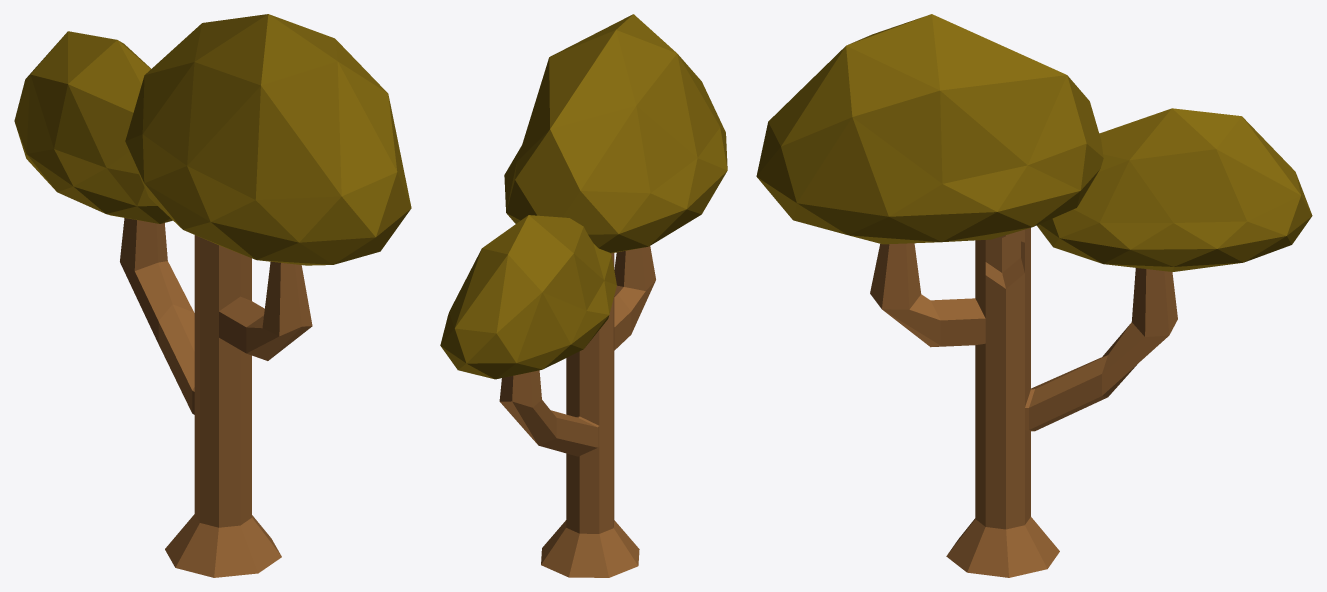
File: TreeWithHole3.fbx
3 views of the same model, side by side, from view 1: azimuth 30°, elevation 25°; view 2: azimuth 150°, elevation 25°; view 3: azimuth 270°, elevation 25° (orthographic). The views are drawn at different scales.
Parts seen in each view (by area): view 1: Icosphere.002, Cylinder.001, Icosphere.003; view 2: Icosphere.002, Icosphere.003, Cylinder.001; view 3: Icosphere.002, Cylinder.001, Icosphere.003.
Boxes of the visible parts, box(x1,y1,x2,y2) form: Icosphere.002: box(125, 14, 411, 265); Cylinder.001: box(120, 218, 312, 577); Icosphere.003: box(14, 31, 172, 223); Icosphere.002: box(504, 14, 727, 253); Icosphere.003: box(440, 215, 616, 379); Cylinder.001: box(499, 246, 655, 577); Icosphere.002: box(756, 14, 1103, 244); Cylinder.001: box(870, 228, 1177, 577); Icosphere.003: box(1037, 108, 1312, 271).
Size of the model in its own units: 305 by 808 by 749.
